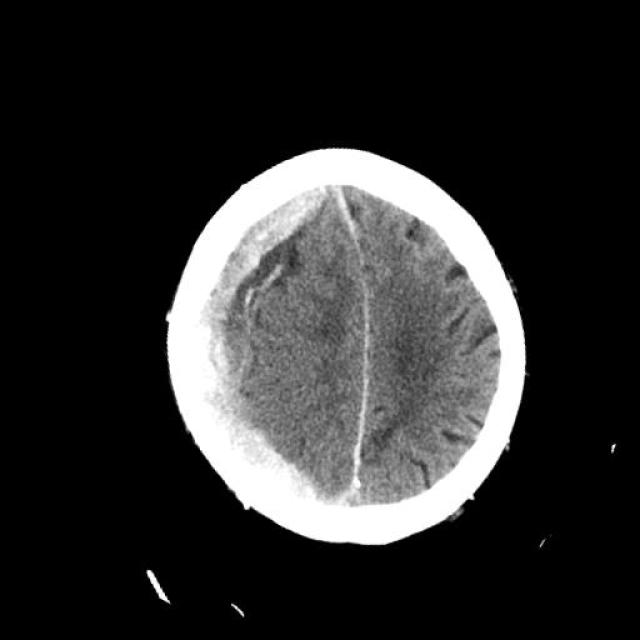Subdural: (101, 172, 399, 520)
